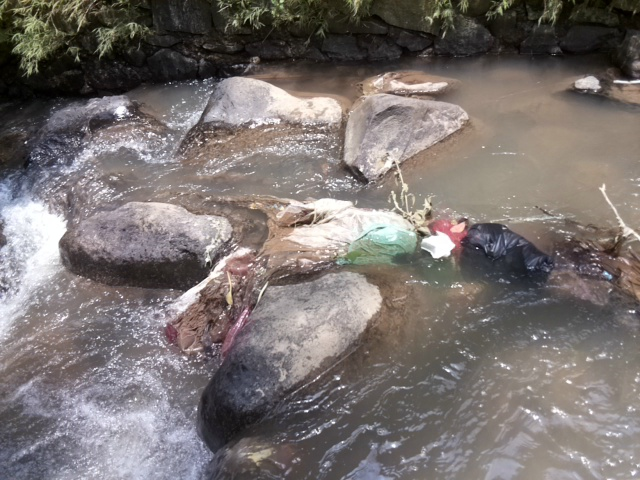Sampah_Plastik: (159, 203, 412, 348), (463, 222, 552, 294)
Sampah_Styrofoam: (418, 228, 458, 261)
